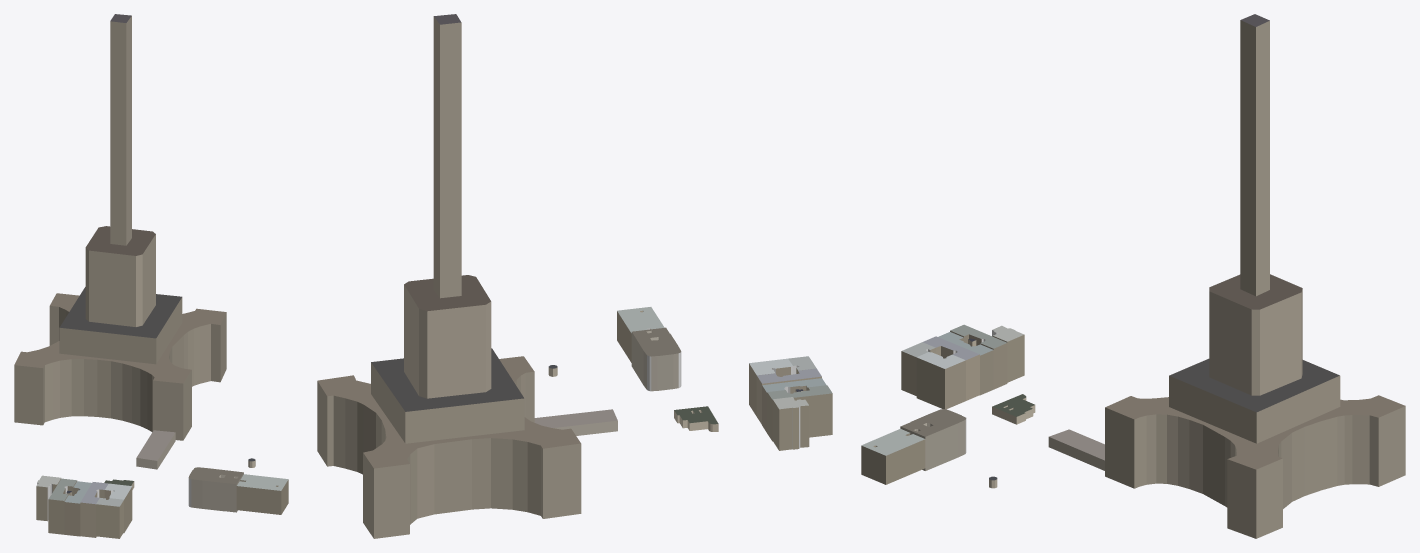
3 views of the same model, side by side, from view 1: azimuth 30°, elevation 25°; view 2: azimuth 150°, elevation 25°; view 3: azimuth 270°, elevation 25° (orthographic). The views are drawn at different scales.
Parts seen in each view (by area): view 1: tuile; view 2: tuile; view 3: tuile.
Boxes of the visible parts, x1,y1,x2,y2 form: tuile: (14,14,288,538); tuile: (317,14,832,538); tuile: (861,14,1405,538).
Bounding box in the file's own units: 239 × 290 × 312.
